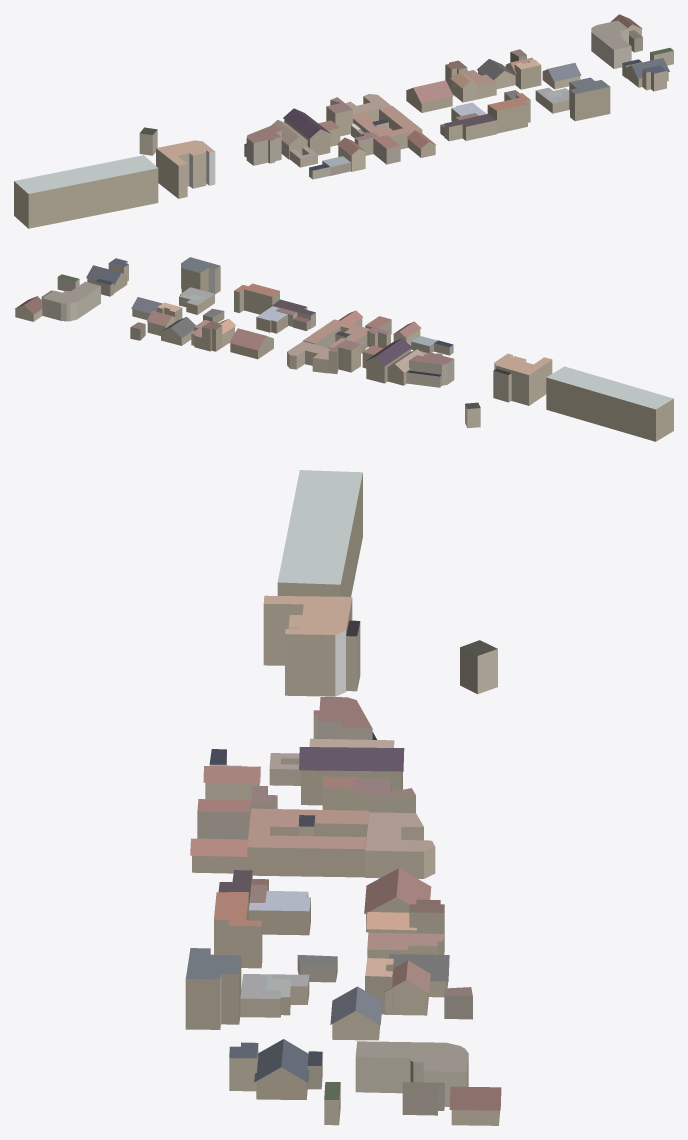
3 views of the same model, one above another, from view 1: azimuth 30°, elevation 25°; view 2: azimuth 150°, elevation 25°; view 3: azimuth 270°, elevation 25° (orthographic). The views are drawn at different scales.
Visible parts, largest first — view 1: tuile; view 2: tuile; view 3: tuile.
Part boxes in pixels (left/top/right/bottom): tuile: left=14, top=14, right=673, bottom=228; tuile: left=15, top=257, right=673, bottom=441; tuile: left=185, top=470, right=501, bottom=1125.
Size of the model in its own units: 265 by 13.79 by 59.61.
